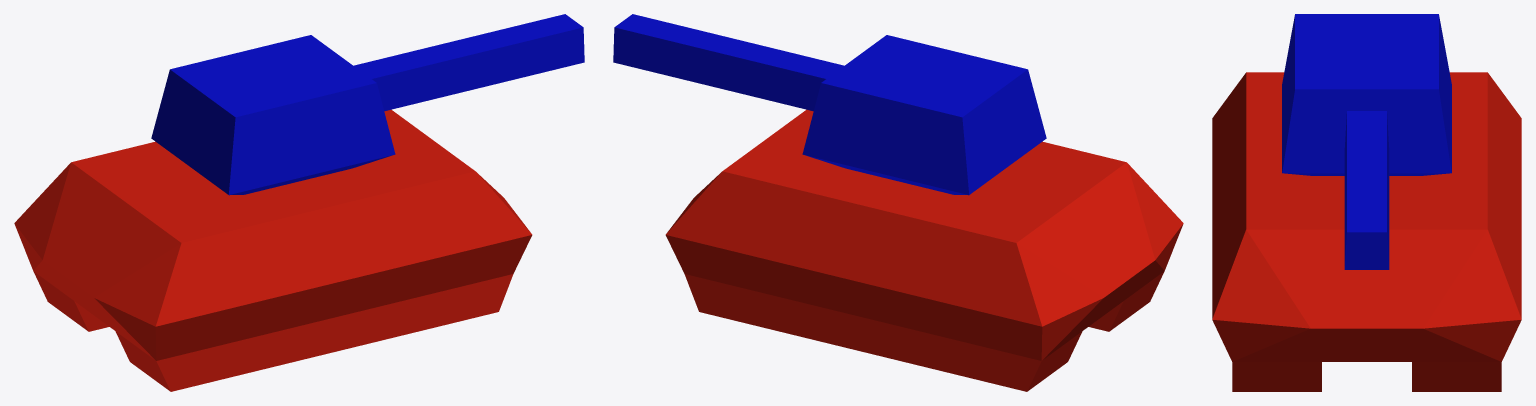
File: tank.obj
3 views of the same model, side by side, from view 1: azimuth 30°, elevation 25°; view 2: azimuth 150°, elevation 25°; view 3: azimuth 270°, elevation 25° (orthographic). The views are drawn at different scales.
Parts seen in each view (by area): view 1: tank_body_Cube, tank_turret_Cube.001; view 2: tank_body_Cube, tank_turret_Cube.001; view 3: tank_body_Cube, tank_turret_Cube.001.
Boxes of the visible parts, bbox=[...] form: tank_body_Cube: bbox=[14, 109, 532, 391]; tank_turret_Cube.001: bbox=[151, 14, 584, 195]; tank_body_Cube: bbox=[665, 109, 1183, 391]; tank_turret_Cube.001: bbox=[613, 14, 1046, 195]; tank_body_Cube: bbox=[1212, 72, 1521, 391]; tank_turret_Cube.001: bbox=[1282, 14, 1451, 269].
Size of the model in its own units: 4.71 by 2.05 by 2.28.
